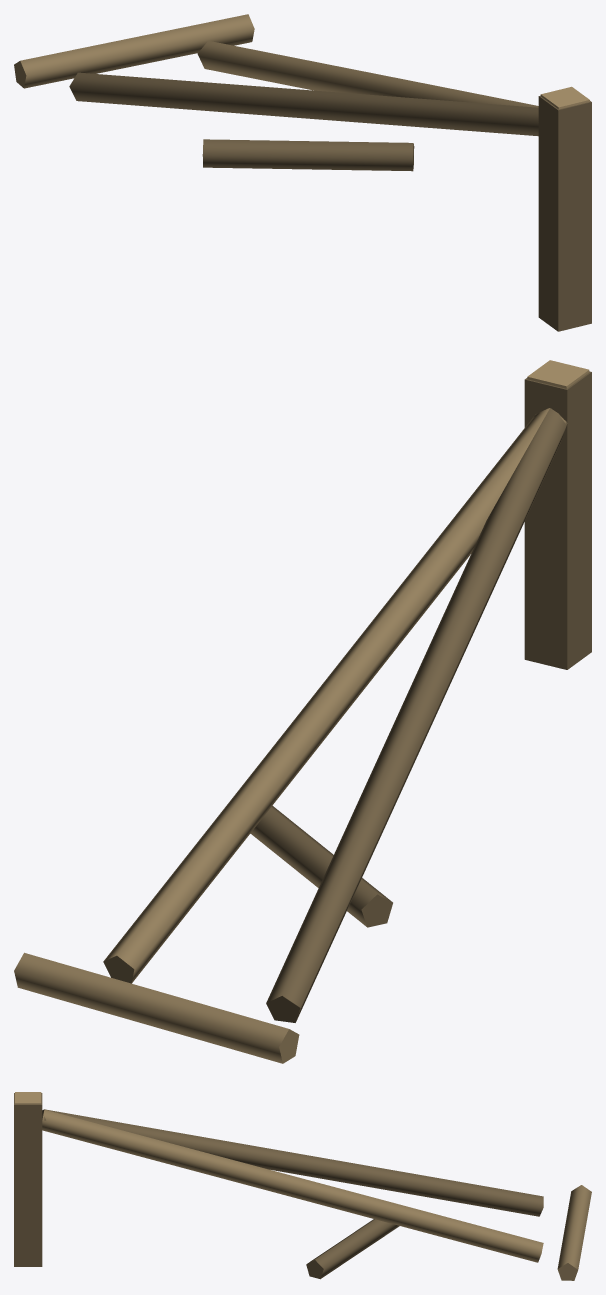
The model's file is VerFence12.glb.
3 renders of one model, top to bottom at view 1: azimuth 30°, elevation 25°; view 2: azimuth 150°, elevation 25°; view 3: azimuth 270°, elevation 25°, orthographic. The views are drawn at different scales.
Parts seen in each view (by area): view 1: VerFence12_wood2; view 2: VerFence12_wood2; view 3: VerFence12_wood2.
Part boxes in pixels (x1,y1,x2,y2): VerFence12_wood2: (14, 14, 591, 331); VerFence12_wood2: (14, 360, 591, 1063); VerFence12_wood2: (14, 1092, 591, 1280).
Bounding box in the file's own units: 1.7 × 1.66 × 5.28.
